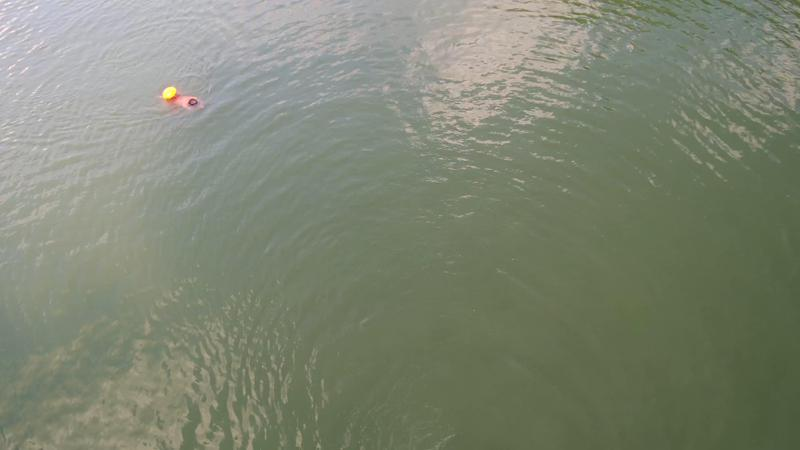swimmers: (157, 86, 205, 113)
